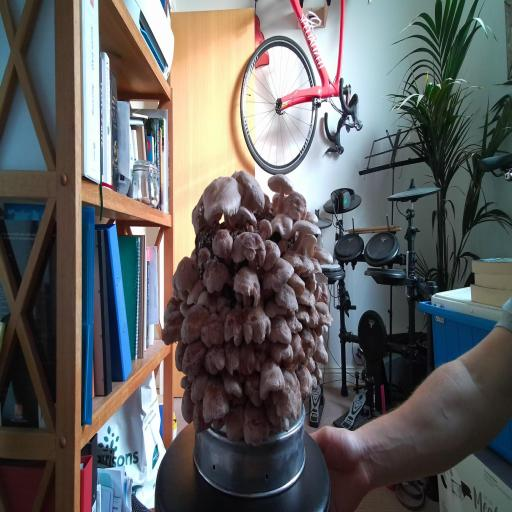Shiitake Mushroom: (217, 163, 279, 218), (251, 246, 304, 304), (172, 292, 216, 355), (222, 259, 275, 310), (198, 169, 244, 227), (162, 247, 210, 302), (171, 330, 216, 386), (253, 393, 298, 445), (258, 162, 303, 210), (274, 366, 306, 423), (253, 352, 288, 402), (240, 399, 273, 451), (266, 278, 309, 316), (240, 302, 273, 349), (229, 229, 269, 266), (200, 254, 232, 300), (199, 339, 230, 380), (280, 185, 311, 226), (292, 225, 323, 266), (184, 194, 213, 236), (202, 378, 229, 423), (186, 397, 214, 439), (154, 291, 189, 324), (276, 243, 311, 275), (186, 365, 212, 408), (292, 358, 317, 402), (209, 222, 236, 262), (181, 274, 209, 312), (308, 334, 336, 372), (198, 311, 225, 350), (294, 322, 321, 361), (175, 385, 200, 427), (159, 309, 186, 346), (230, 203, 263, 230), (269, 208, 295, 241), (286, 329, 308, 368), (267, 340, 297, 367), (292, 284, 322, 311), (308, 244, 339, 268), (291, 301, 316, 330), (224, 308, 243, 346), (225, 404, 244, 442), (243, 371, 262, 409), (221, 370, 245, 398), (269, 315, 292, 344), (238, 341, 256, 377), (196, 288, 218, 317), (255, 214, 276, 243), (291, 218, 323, 237), (263, 239, 281, 272), (209, 291, 232, 314), (225, 341, 240, 375), (302, 271, 321, 297), (315, 301, 333, 326), (309, 362, 328, 385), (307, 304, 321, 331), (303, 354, 320, 376), (302, 209, 321, 226), (197, 245, 211, 267), (311, 253, 323, 276), (319, 282, 330, 304), (313, 323, 325, 339), (271, 193, 280, 209), (247, 223, 255, 233)
